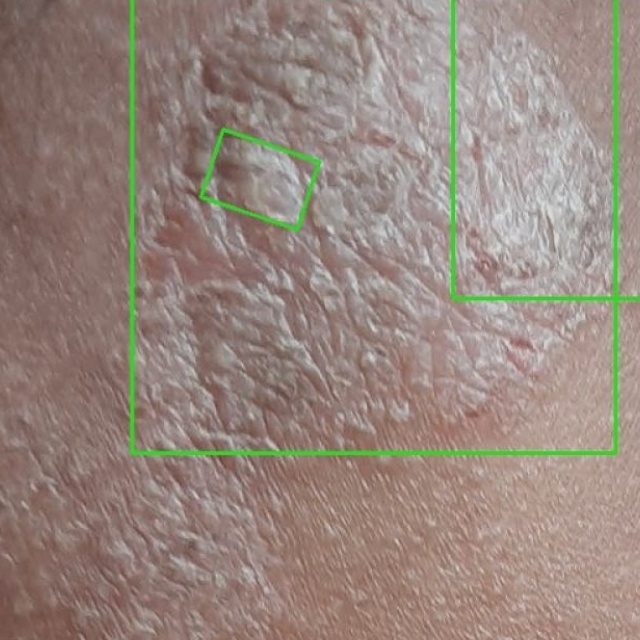Contact Dermatitis: (132, 0, 615, 453), (453, 0, 639, 298), (201, 130, 319, 230)
